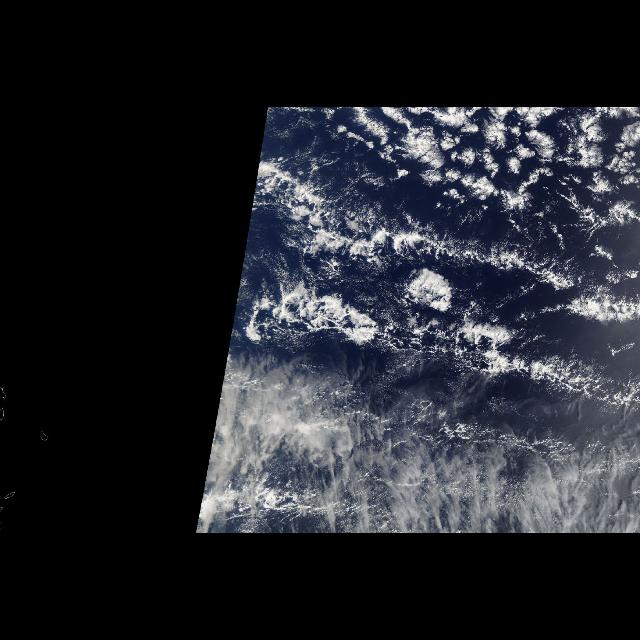Fish: (229, 150, 639, 526)
Flower: (350, 107, 634, 211)
